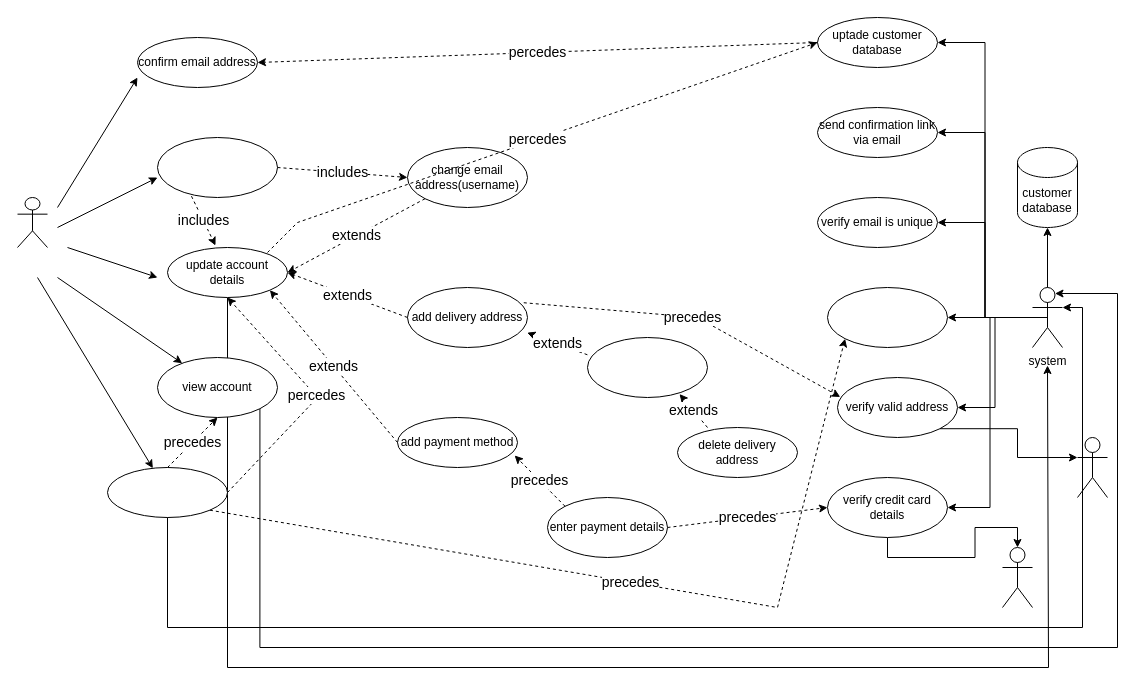
Image size: 1143x693. Some labels were removed from this diagram. The shapes that lost their labels are listed below. From the top down, each one's centre as x and y in pixels, then its label:
At point 217,167: "register".
At point 32,222: "Actor".
At point 887,317: "check for existing account".
At point 647,367: "update delivery address".
At point 1092,467: "map apı".
At point 167,492: "login".
At point 1017,577: "third-party payment verification service".
